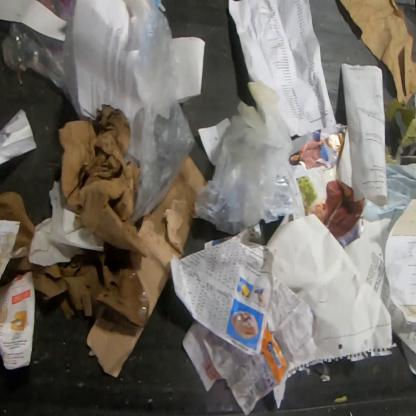cardboard: (131, 153, 206, 322), (58, 104, 141, 251), (85, 319, 146, 379)
soft_plastic: (124, 0, 196, 222), (194, 81, 294, 235), (2, 21, 63, 90), (60, 0, 83, 120), (35, 0, 62, 18)
